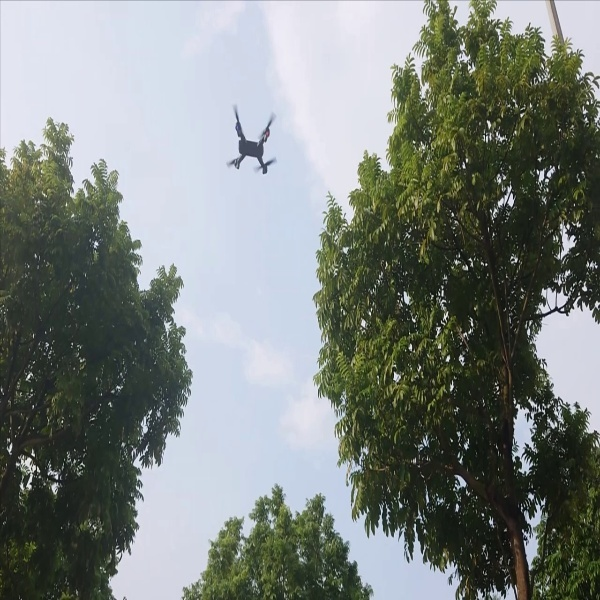drone: (215, 99, 286, 180)
